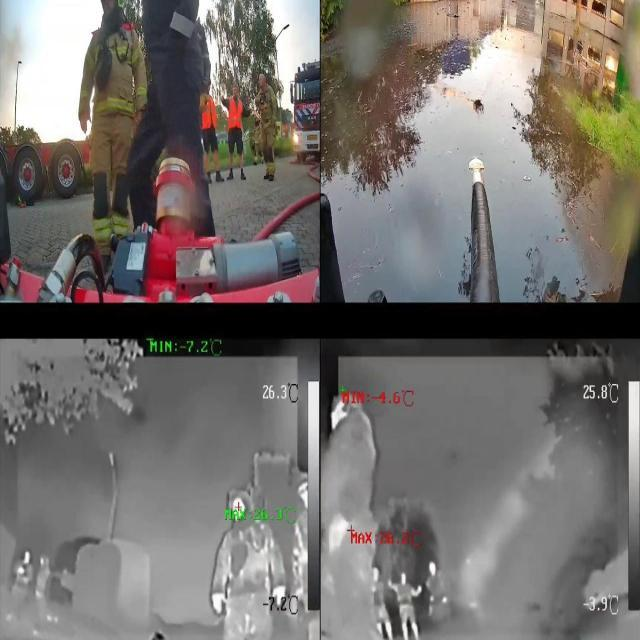Smoke: (0, 0, 23, 125)
